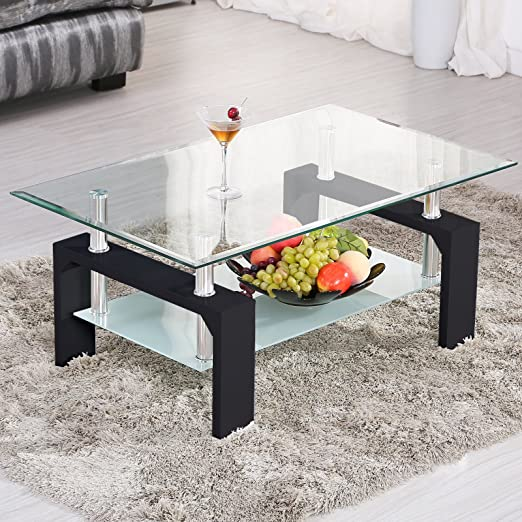table: (4, 98, 522, 444)
